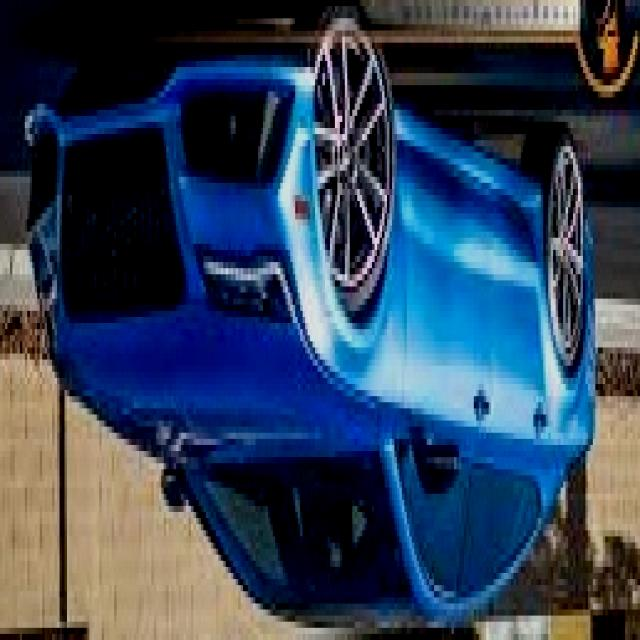blue: (21, 29, 596, 622)
